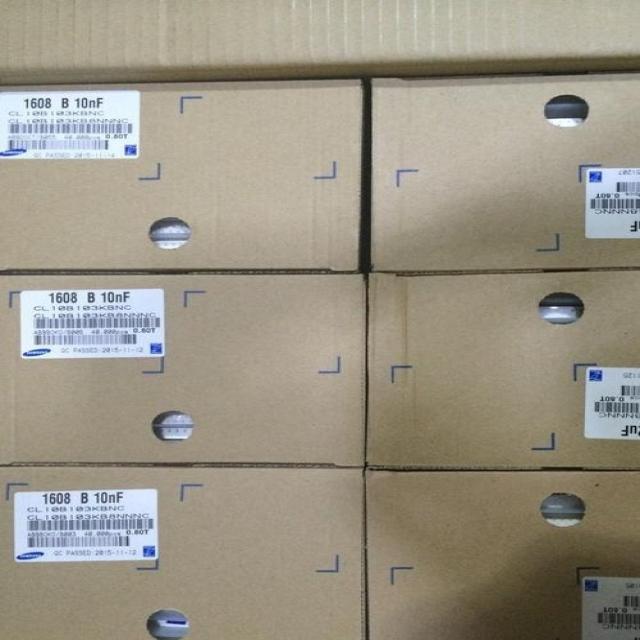box: (1, 273, 367, 468), (0, 78, 364, 273), (3, 464, 370, 639), (365, 68, 639, 270), (365, 269, 639, 469), (0, 4, 639, 83), (365, 470, 639, 639)
